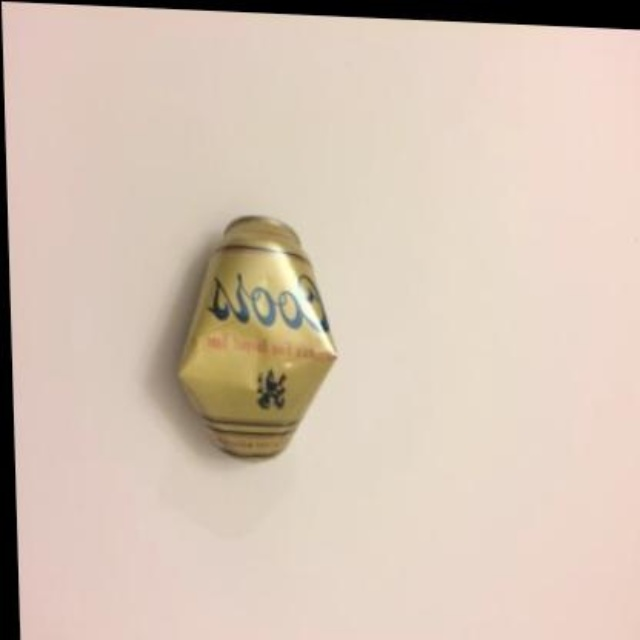trash: (178, 215, 335, 455)
